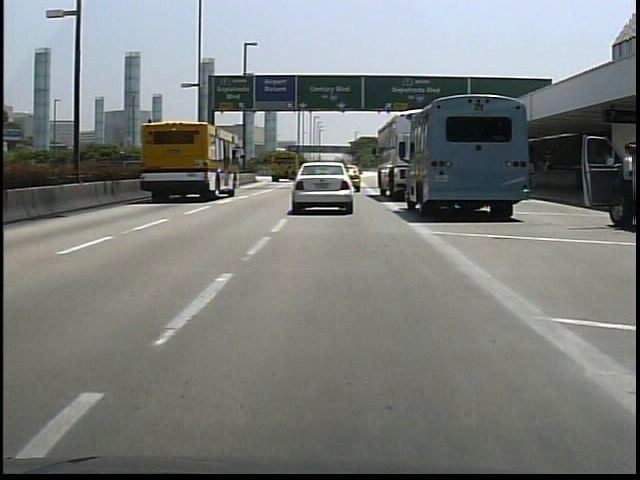person: (589, 139, 634, 229)
